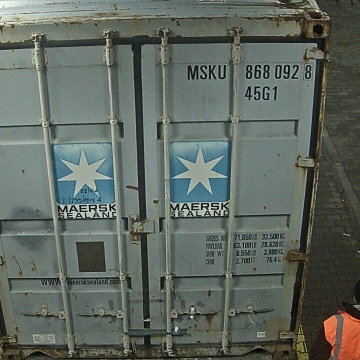serial_id: (186, 64, 312, 79)
